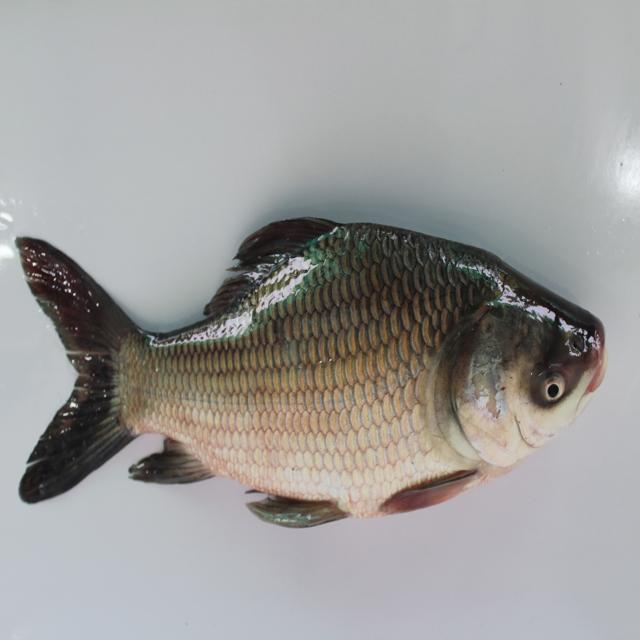Catla: (9, 221, 616, 529)
